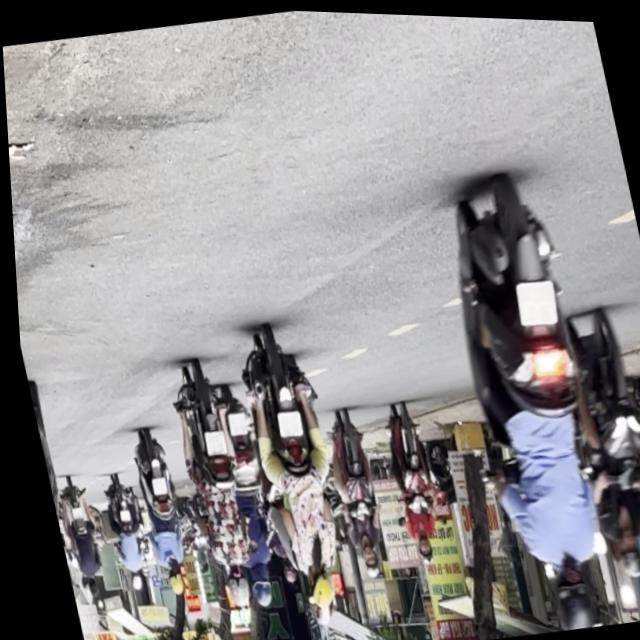helmet: (540, 555, 596, 628), (299, 565, 332, 609), (611, 528, 640, 577), (241, 565, 271, 609), (219, 566, 247, 607), (354, 544, 377, 579), (410, 533, 430, 564)
licenseplate: (423, 162, 633, 635), (225, 319, 359, 620), (159, 358, 261, 619), (551, 300, 640, 581), (198, 376, 286, 610), (312, 404, 391, 581), (371, 398, 448, 569)
nohelmet: (513, 277, 557, 325), (271, 407, 299, 437), (198, 427, 223, 456), (222, 411, 244, 436)
